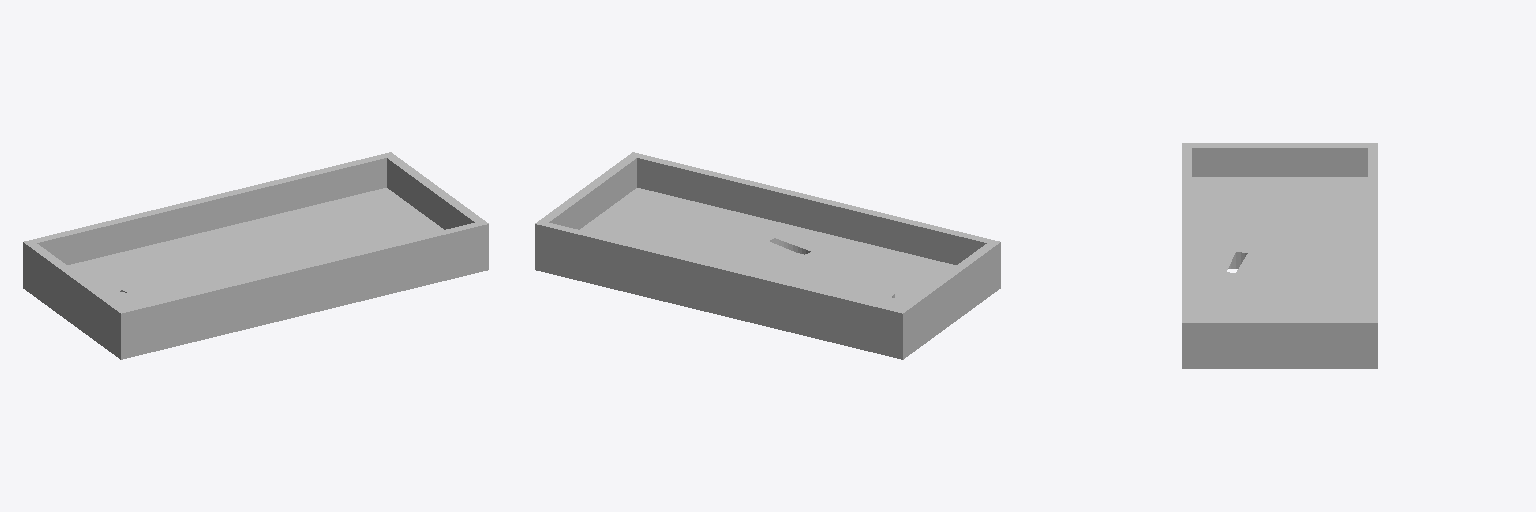
Rendered from Board3.obj.
The picture shows the model from 3 angles: view 1: azimuth 30°, elevation 25°; view 2: azimuth 150°, elevation 25°; view 3: azimuth 270°, elevation 25°; orthographic projection.
Parts seen in each view (by area): view 1: Cube; view 2: Cube; view 3: Cube.
Part boxes in pixels (bbox=[...]): Cube: bbox=[23, 152, 488, 359]; Cube: bbox=[535, 152, 1000, 359]; Cube: bbox=[1182, 143, 1377, 368].
Size of the model in its own units: 2.6 by 0.312 by 1.2.